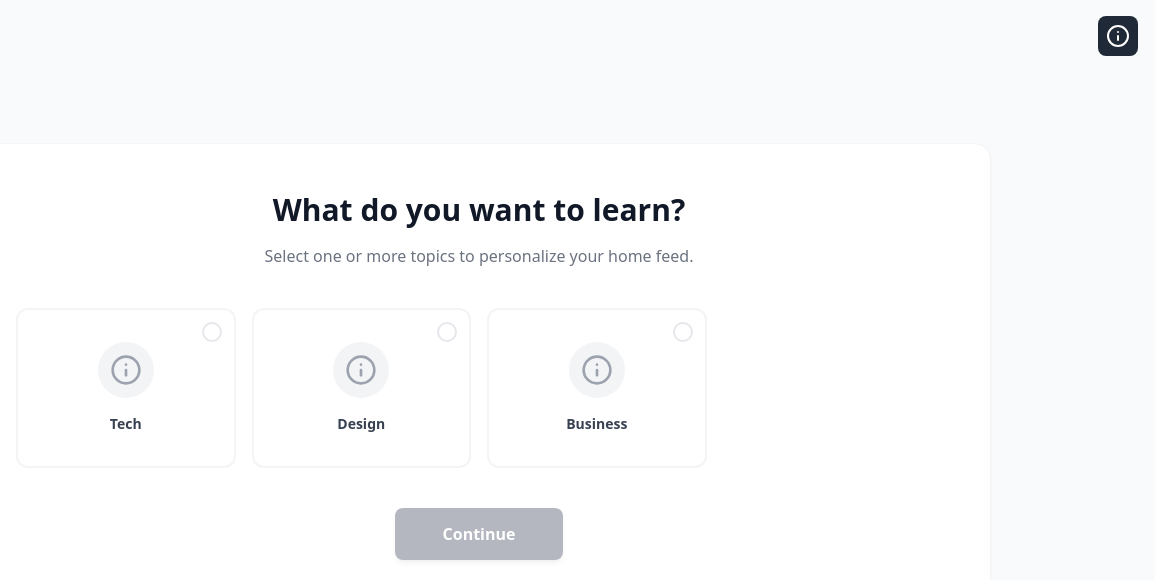
Scenario: OnboardingPage › toggles interest selection and enables continue button
The image size is (1155, 580).
Expected: the button "Continue" is disabled, 394,508 -> 563,560
Click the button "Tech" at (126, 388), box 16,308 -> 236,468
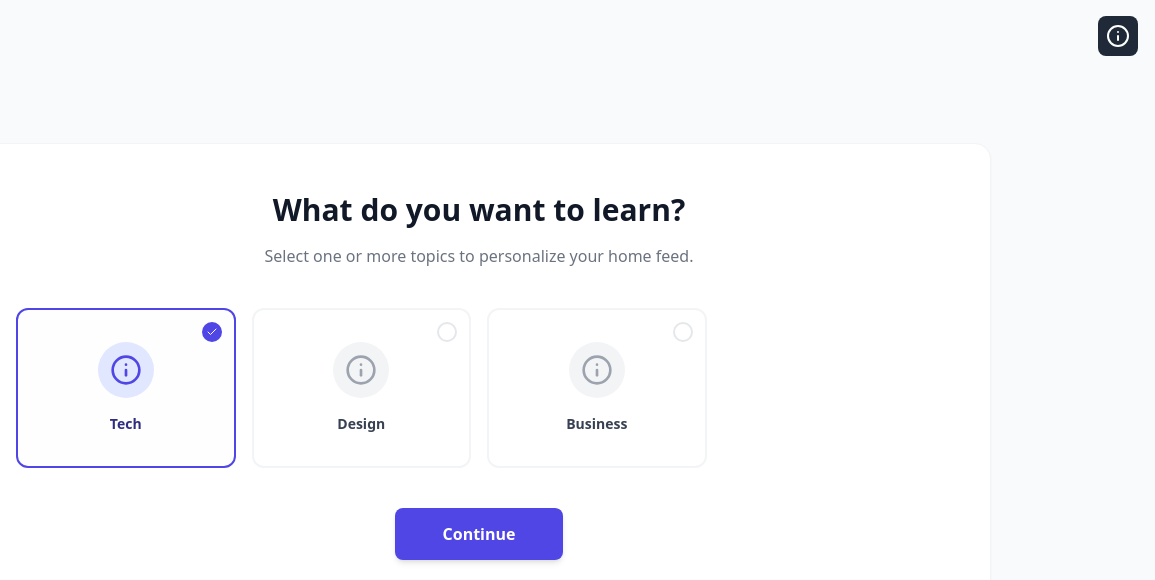
Now the button "Continue" is enabled, box 394,508 -> 563,560
Click the button "Tech" at (126, 388), box 16,308 -> 236,468
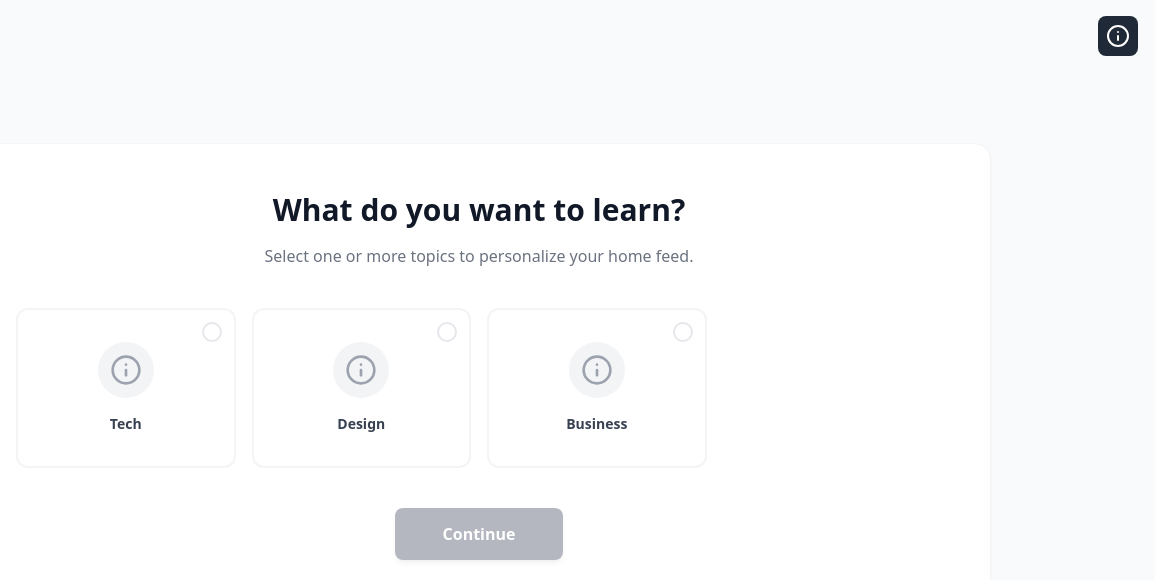
Now the button "Continue" is disabled, box 394,508 -> 563,560
